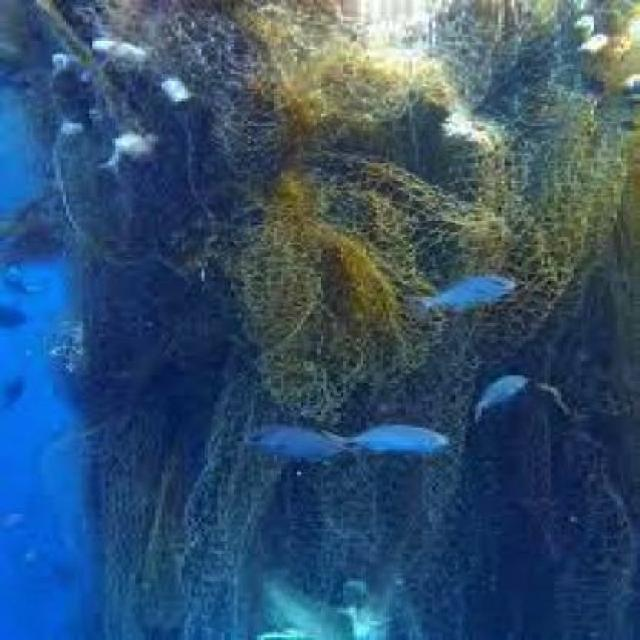net: (40, 7, 637, 640)
